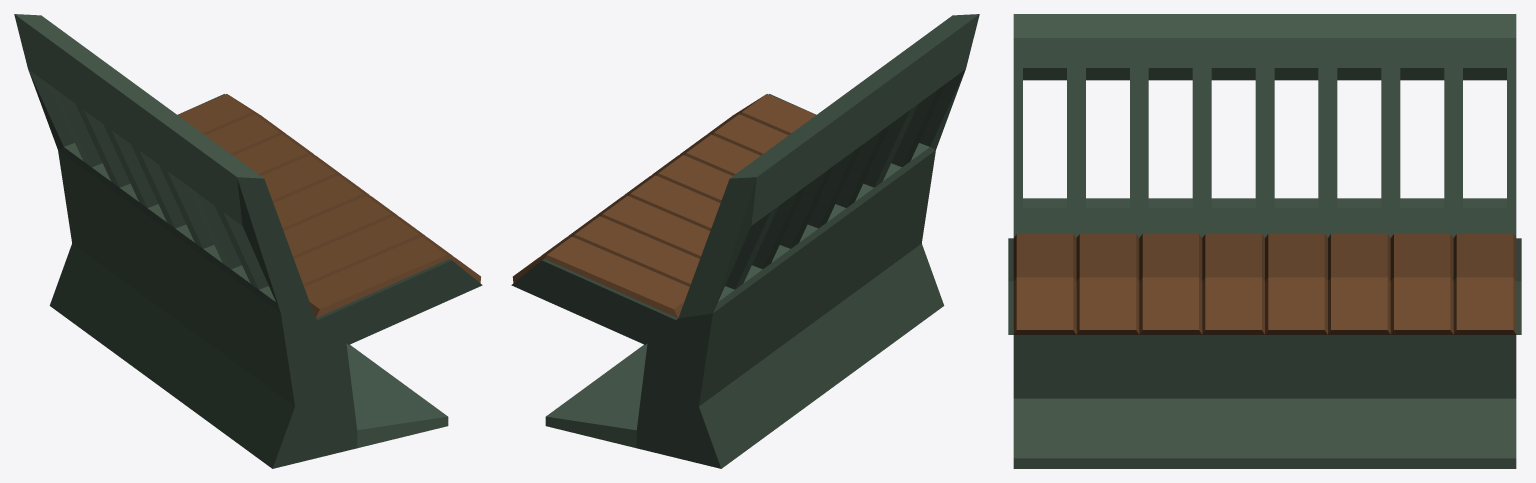
Rendered from Bench.glb.
3 views of the same model, side by side, from view 1: azimuth 30°, elevation 25°; view 2: azimuth 150°, elevation 25°; view 3: azimuth 270°, elevation 25° (orthographic). The views are drawn at different scales.
Parts seen in each view (by area): view 1: Cube; view 2: Cube; view 3: Cube.
Part boxes in pixels (left/top/right/bottom): Cube: left=14, top=14, right=482, bottom=468; Cube: left=511, top=14, right=979, bottom=468; Cube: left=1008, top=14, right=1521, bottom=468.
Bounding box in the file's own units: 3.12 × 3.65 × 5.01.
